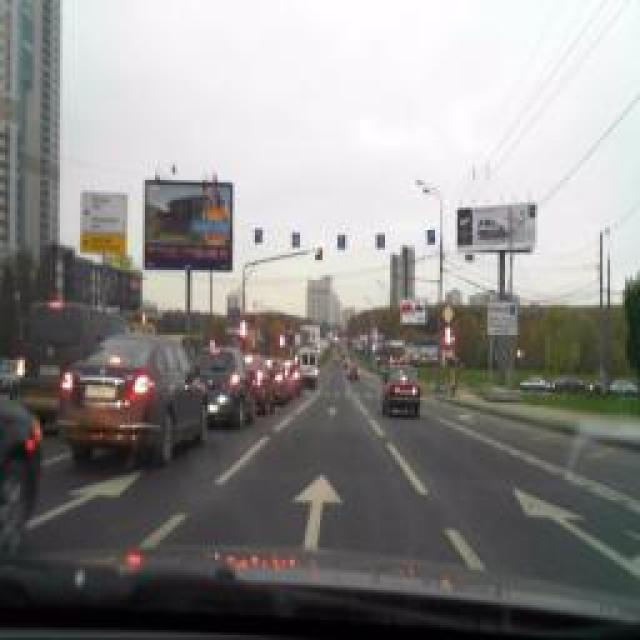sign: (441, 304, 454, 324)
